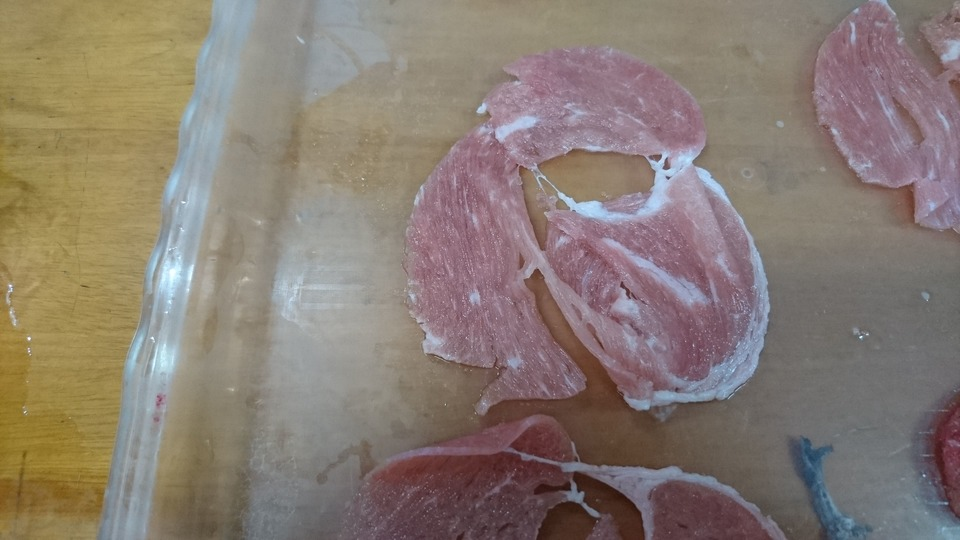restructured meat: (397, 78, 792, 415), (350, 424, 786, 540), (814, 8, 960, 232)
